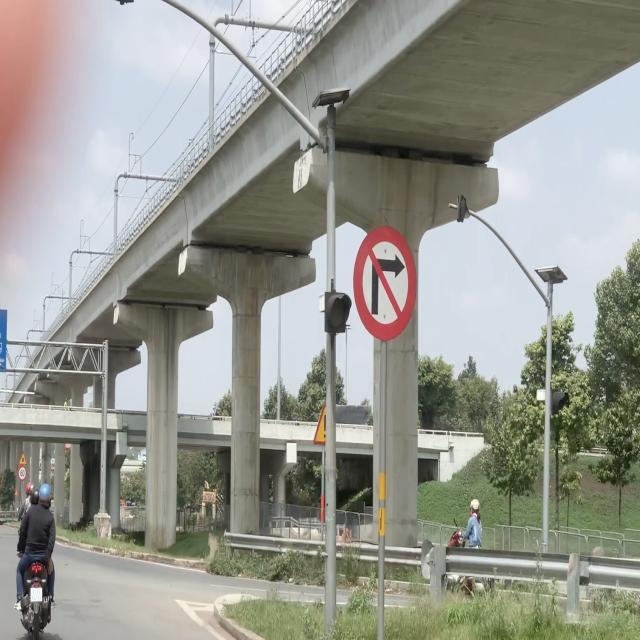Cam re phai: (354, 227, 417, 342)
